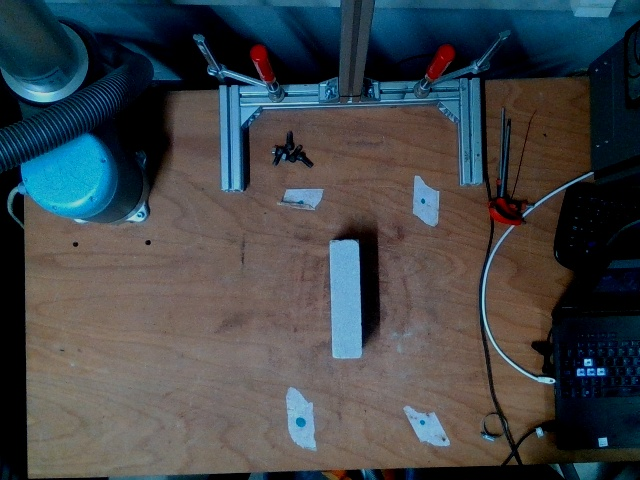brick-side: (330, 242, 362, 358)
